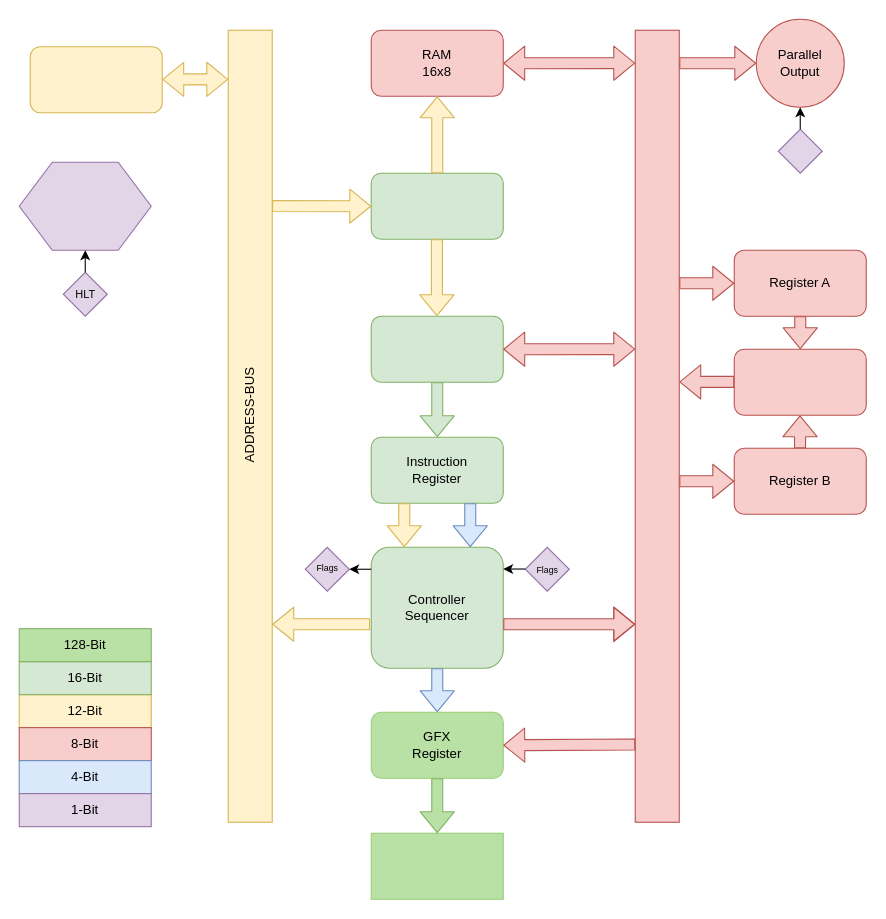
This 886x919 diagram has some shape labels left out. The box of each missing label's shape, as (x1, y1, x2, y2) in pixels:
ALU: (733, 348, 866, 415)
Clock: (18, 161, 151, 250)
DATA-BUS: (634, 29, 679, 822)
EXT: (777, 128, 822, 173)
LED-MATRIX: (370, 832, 503, 899)
MAR: (370, 172, 503, 239)
PC: (29, 46, 162, 113)
ROM 2Kx16: (370, 315, 503, 382)
